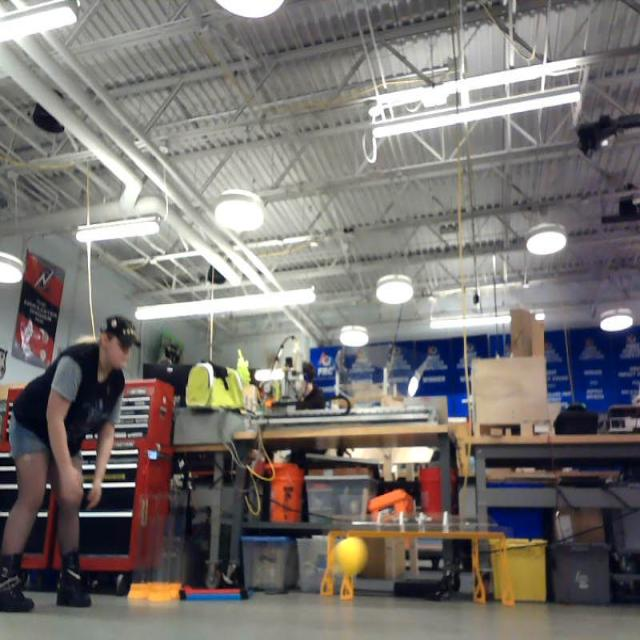Fuel: (337, 537, 368, 574)
